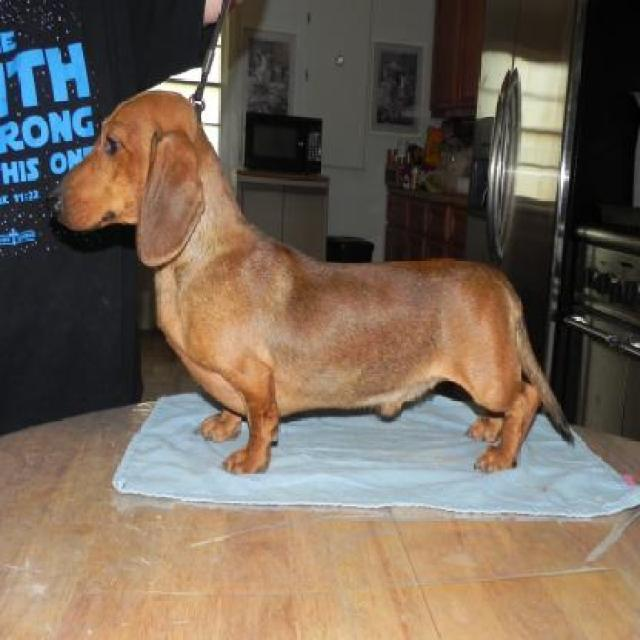Dog: (43, 85, 580, 480)
